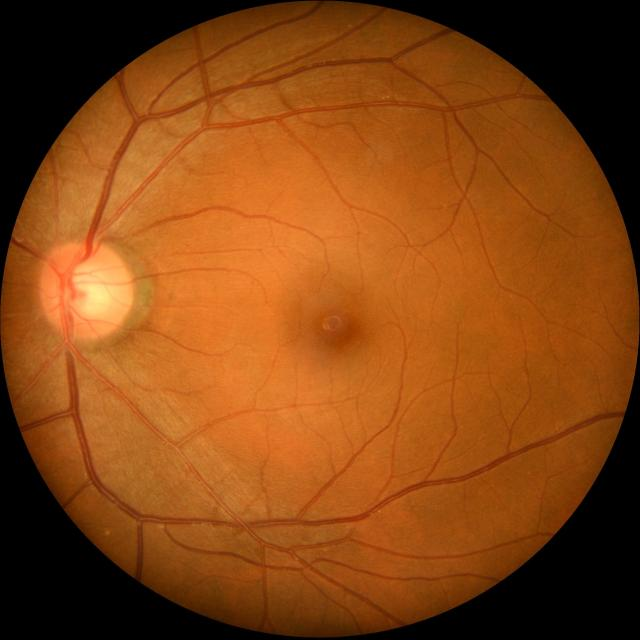OC: (66, 265, 114, 315)
OD: (38, 240, 133, 339)
